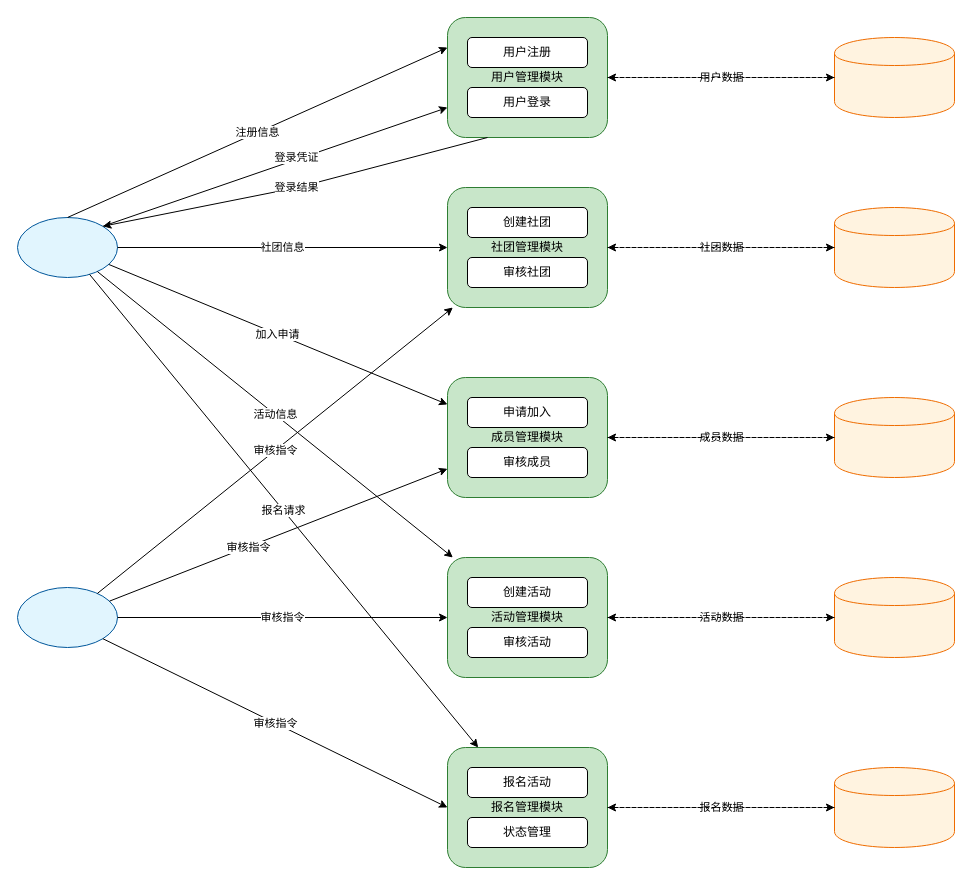
The diagram is 972 pixels wide and 885 high, and some of its shapes have lost their labels. The centre of each missing label's shape, as x and y in pixels:
"成员表" goes at (894,437).
"报名表" goes at (894,807).
"普通用户" goes at (67,247).
"活动表" goes at (894,617).
"用户表" goes at (894,77).
"社团表" goes at (894,247).
"管理员" goes at (67,617).
